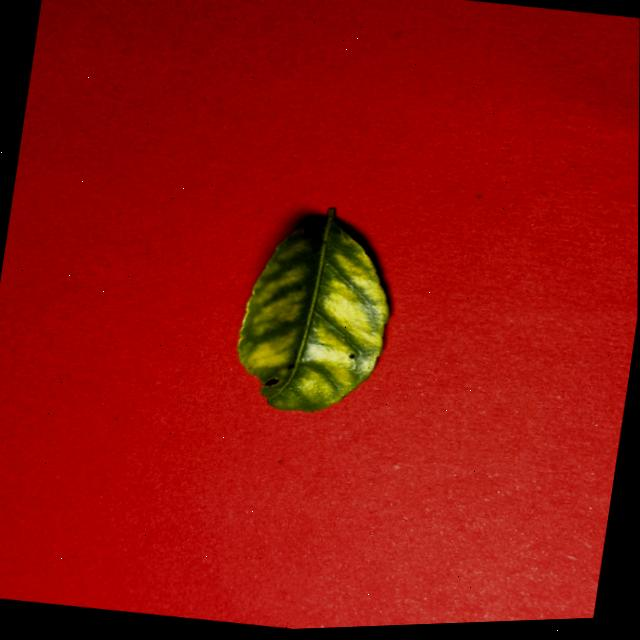greening: (238, 209, 389, 412)
